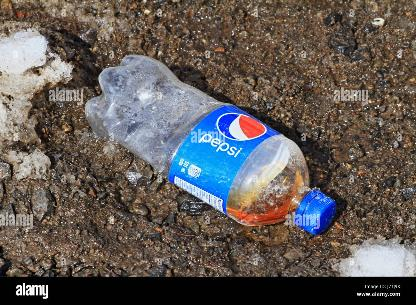Plastic Bottle: (84, 51, 348, 239)
